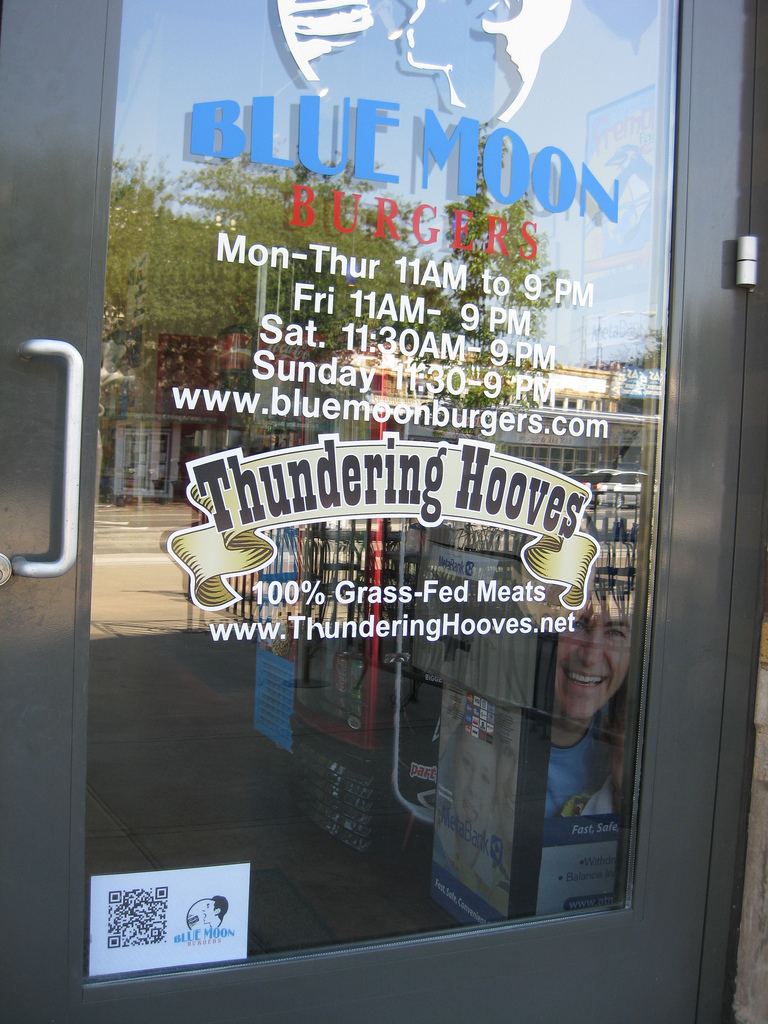QR-CODE: (108, 886, 167, 947)
